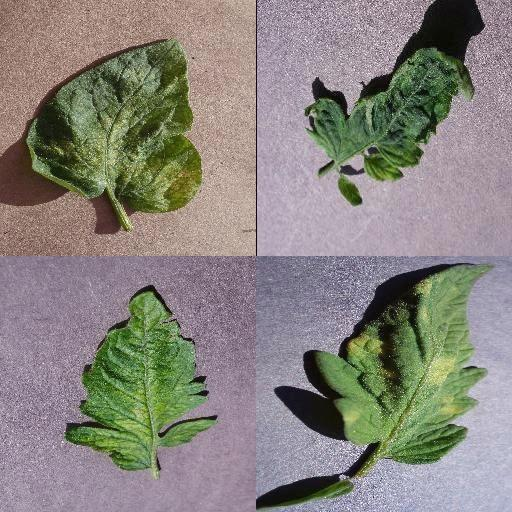Leaf Mold: (315, 262, 493, 466)
Mosaic Virus: (303, 44, 477, 208), (63, 287, 219, 469)
Spider Mites: (27, 37, 202, 215)
